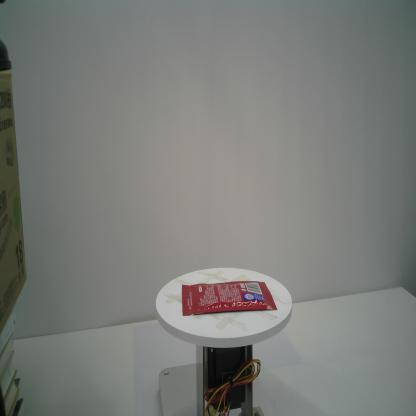Seasoner: (181, 281, 278, 317)
